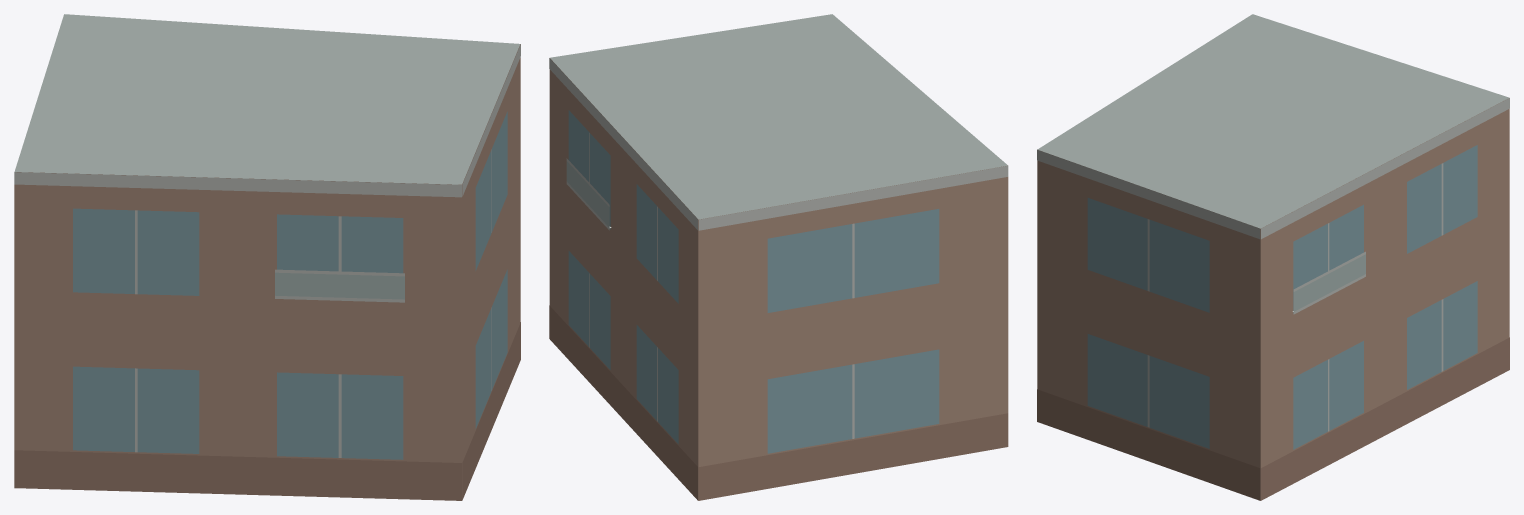
File: survey-upis-32791893.glb
3 renders of one model, left to right at view 1: azimuth 30°, elevation 25°; view 2: azimuth 150°, elevation 25°; view 3: azimuth 270°, elevation 25°, orthographic. The views are drawn at different scales.
Visible parts, largest first — view 1: survey-upis-32791893.tmp; view 2: survey-upis-32791893.tmp; view 3: survey-upis-32791893.tmp.
Boxes of the visible parts, x1,y1,x2,y2 form: survey-upis-32791893.tmp: (14,14,520,500); survey-upis-32791893.tmp: (549,14,1008,500); survey-upis-32791893.tmp: (1037,14,1509,500).
Bounding box in the file's own units: 10.32 × 6.1 × 9.61.
